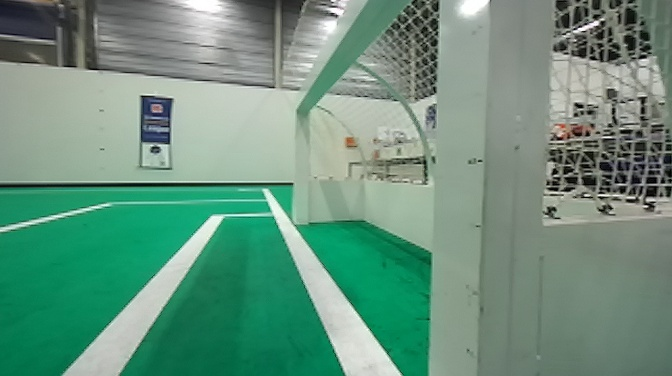goalpost: (433, 5, 541, 372), (289, 108, 314, 224)
